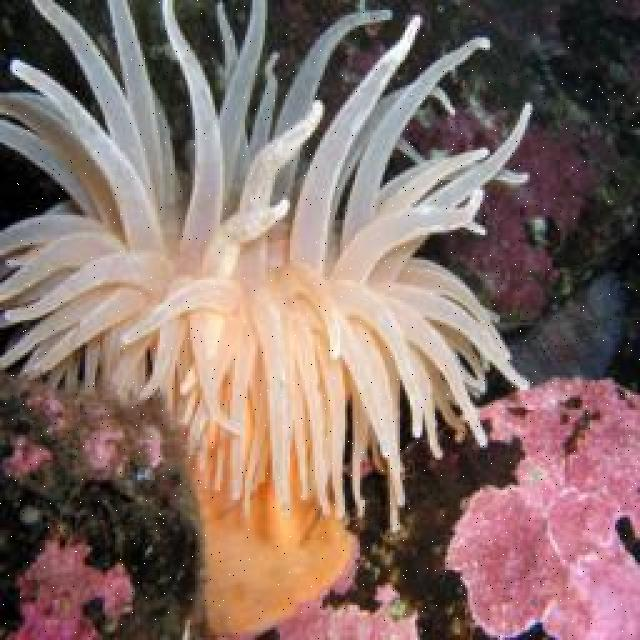reefs: (0, 0, 535, 638)
